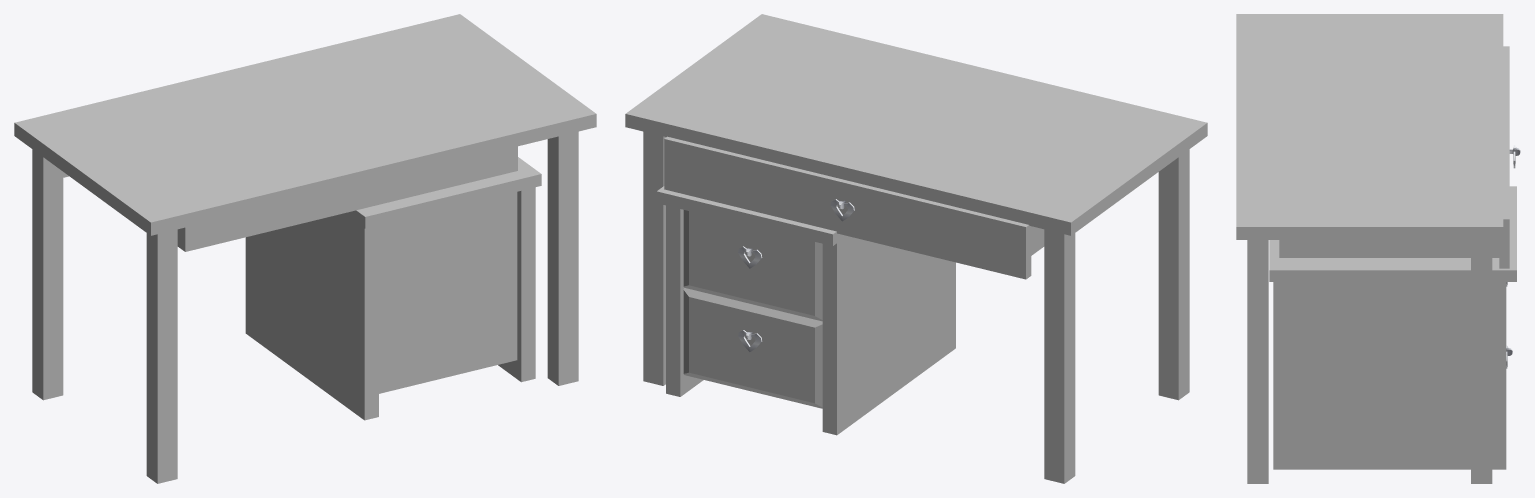
File: desk.fbx
3 renders of one model, left to right at view 1: azimuth 30°, elevation 25°; view 2: azimuth 150°, elevation 25°; view 3: azimuth 270°, elevation 25°, orthographic. The views are drawn at different scales.
Parts seen in each view (by area): view 1: top, pCube4, pCube6, pCube3, back_right_leg, back_left_leg, front_right_leg, pCube7, pCube5; view 2: top, pCube4, pCube2, pCube6, front_right_leg, back_right_leg, front_left_leg, pCube5, pCube7; view 3: top, pCube5, pCube7, front_left_leg, back_left_leg, pCube3, pCube2.
Part boxes in pixels (<box>): top: <box>14,14,596,235</box>; pCube4: <box>379,192,517,393</box>; pCube6: <box>245,213,378,420</box>; pCube3: <box>177,146,517,251</box>; back_right_leg: <box>146,229,177,483</box>; back_left_leg: <box>547,131,578,385</box>; front_right_leg: <box>32,149,63,400</box>; pCube7: <box>344,157,541,228</box>; pCube5: <box>498,187,535,382</box>; top: <box>625,14,1207,235</box>; pCube4: <box>683,210,822,408</box>; pCube2: <box>664,136,1031,279</box>; pCube6: <box>822,236,955,435</box>; front_right_leg: <box>1044,229,1075,483</box>; back_right_leg: <box>1158,149,1189,400</box>; front_left_leg: <box>643,131,666,385</box>; pCube5: <box>666,205,703,396</box>; pCube7: <box>656,186,846,245</box>; top: <box>1236,14,1503,239</box>; pCube5: <box>1273,282,1506,469</box>; pCube7: <box>1269,186,1516,281</box>; front_left_leg: <box>1471,240,1492,483</box>; back_left_leg: <box>1247,240,1268,483</box>; pCube3: <box>1279,240,1499,257</box>; pCube2: <box>1499,46,1509,268</box>.
Bounding box in the file's own units: 7.82 × 4.5 × 4.41.
